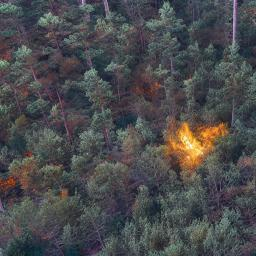Small fire: (154, 108, 237, 173)
